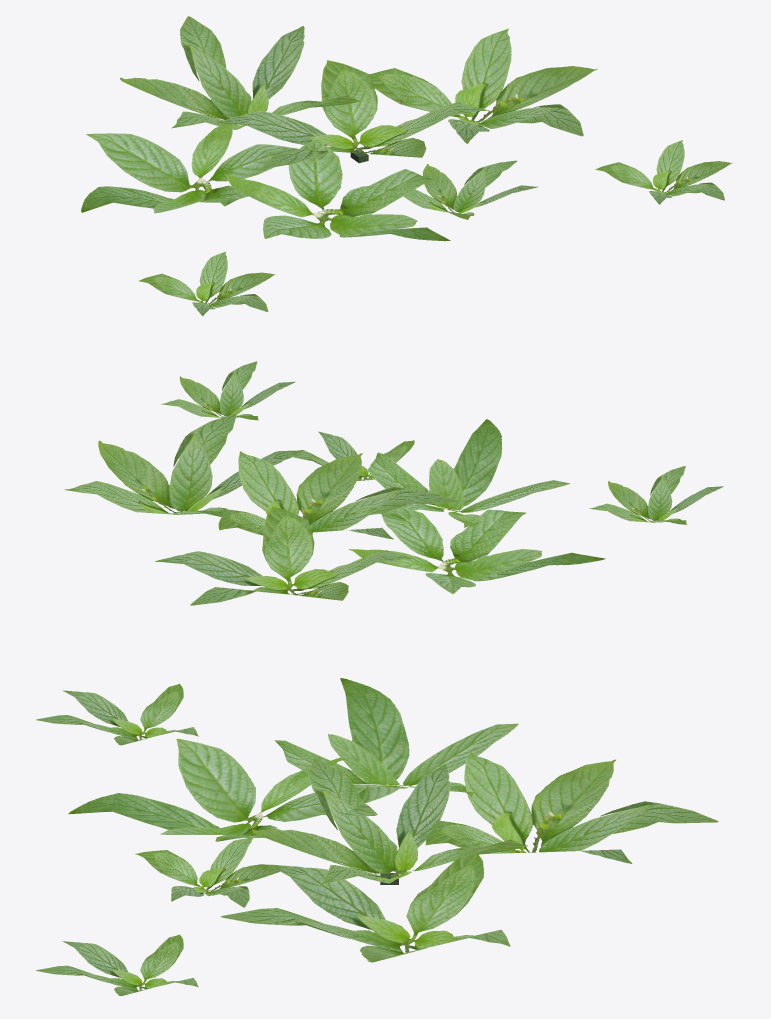
File: detail plant8.FBX
3 views of the same model, one above another, from view 1: azimuth 30°, elevation 25°; view 2: azimuth 150°, elevation 25°; view 3: azimuth 270°, elevation 25° (orthographic). The views are drawn at different scales.
Visible parts, largest first — view 1: detail plant8; view 2: detail plant8; view 3: detail plant8.
Boxes of the visible parts, left/top/right/bottom form: detail plant8: left=81, top=16, right=732, bottom=315; detail plant8: left=64, top=361, right=723, bottom=605; detail plant8: left=36, top=678, right=718, bottom=996.
Size of the model in its own units: 4 by 0.2941 by 3.74.
